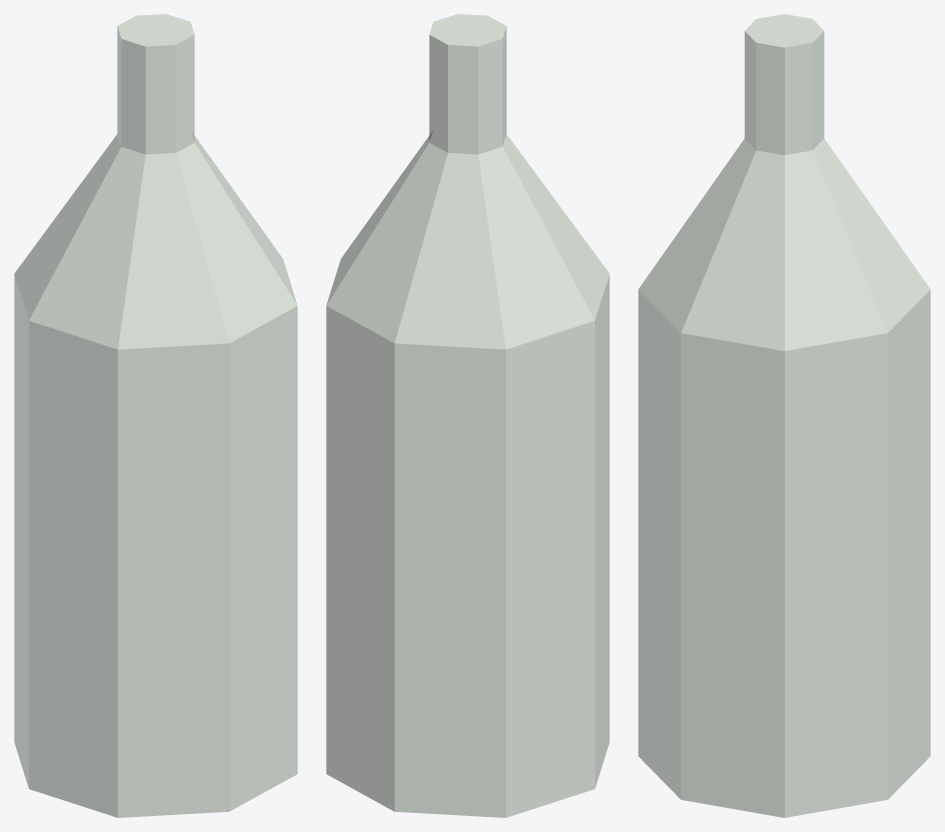
File: bottle.glb
3 renders of one model, left to right at view 1: azimuth 30°, elevation 25°; view 2: azimuth 150°, elevation 25°; view 3: azimuth 270°, elevation 25°, orthographic.
Parts seen in each view (by area): view 1: bottle; view 2: bottle; view 3: bottle.
Boxes of the visible parts, <box> form: bottle: <box>14,14,297,817</box>; bottle: <box>326,14,609,817</box>; bottle: <box>638,14,930,817</box>.
Size of the model in its own units: 0.1398 by 0.3827 by 0.1398.
Materials: 1 (1 with a texture image).
